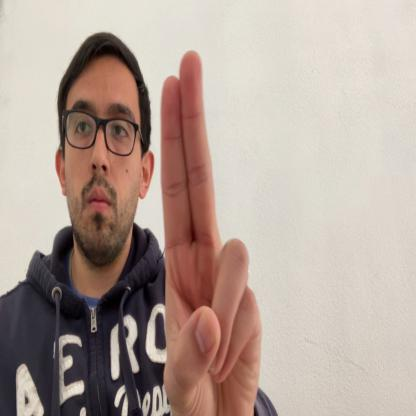U: (160, 48, 262, 416)
